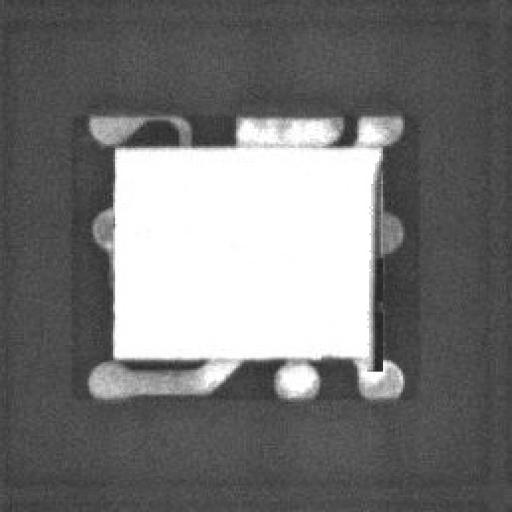DIE_BROKEN: (359, 160, 383, 378)
